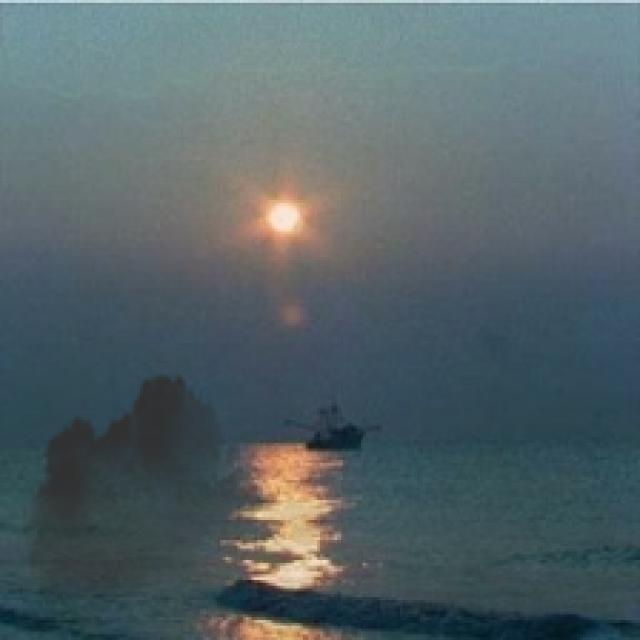smoke: (23, 363, 271, 626)
